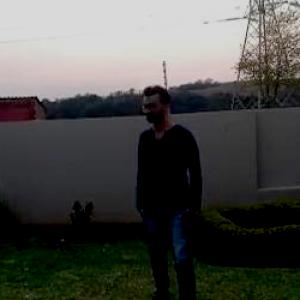follow: (137, 76, 209, 298)
